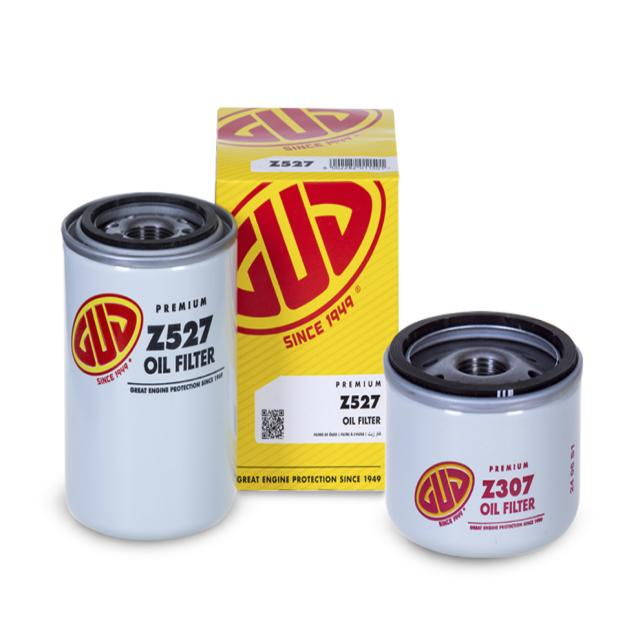oil_filter: (58, 194, 241, 540), (375, 304, 590, 567)
